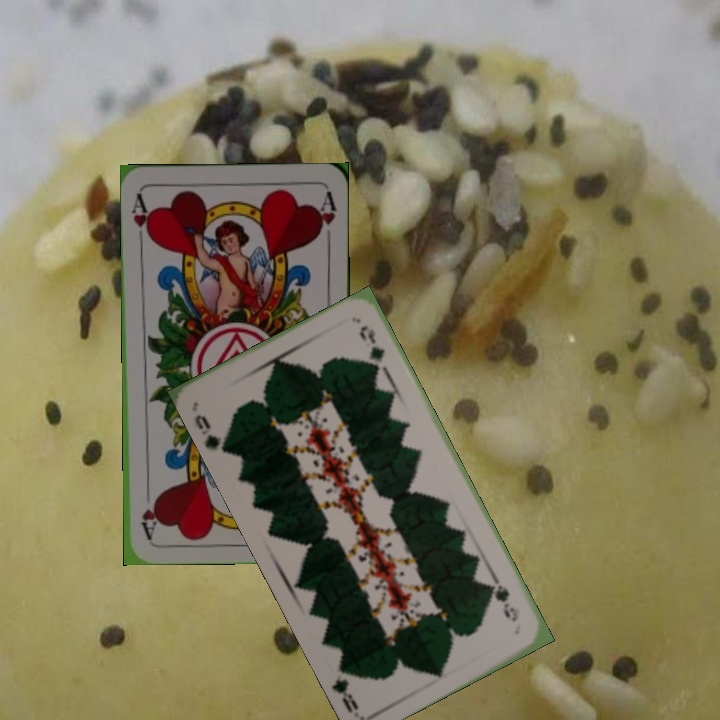G9: (190, 410, 231, 456), (485, 578, 522, 625)
HA: (128, 189, 154, 248)
